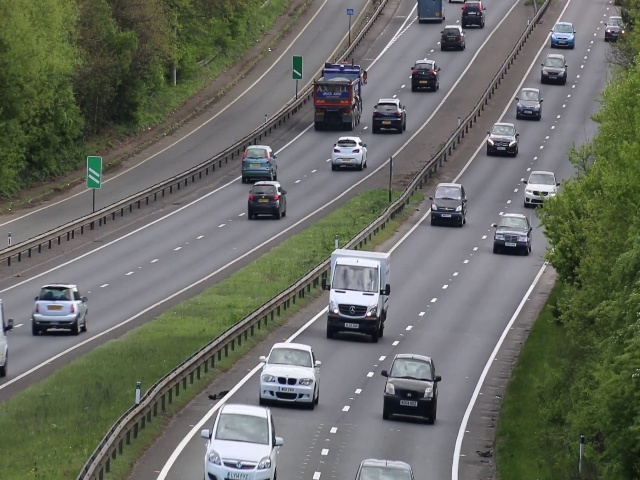car: (327, 246, 388, 341), (202, 403, 277, 480), (380, 354, 438, 421), (257, 344, 322, 403), (311, 61, 363, 130), (31, 284, 88, 338), (493, 212, 532, 255), (430, 183, 466, 228), (248, 179, 286, 220), (371, 97, 407, 136), (243, 143, 278, 183), (486, 120, 519, 159), (331, 136, 368, 170), (523, 168, 555, 201), (410, 58, 439, 94), (539, 52, 567, 88), (517, 87, 541, 122), (459, 1, 485, 30), (550, 21, 574, 51), (439, 25, 465, 52), (604, 13, 620, 43)
